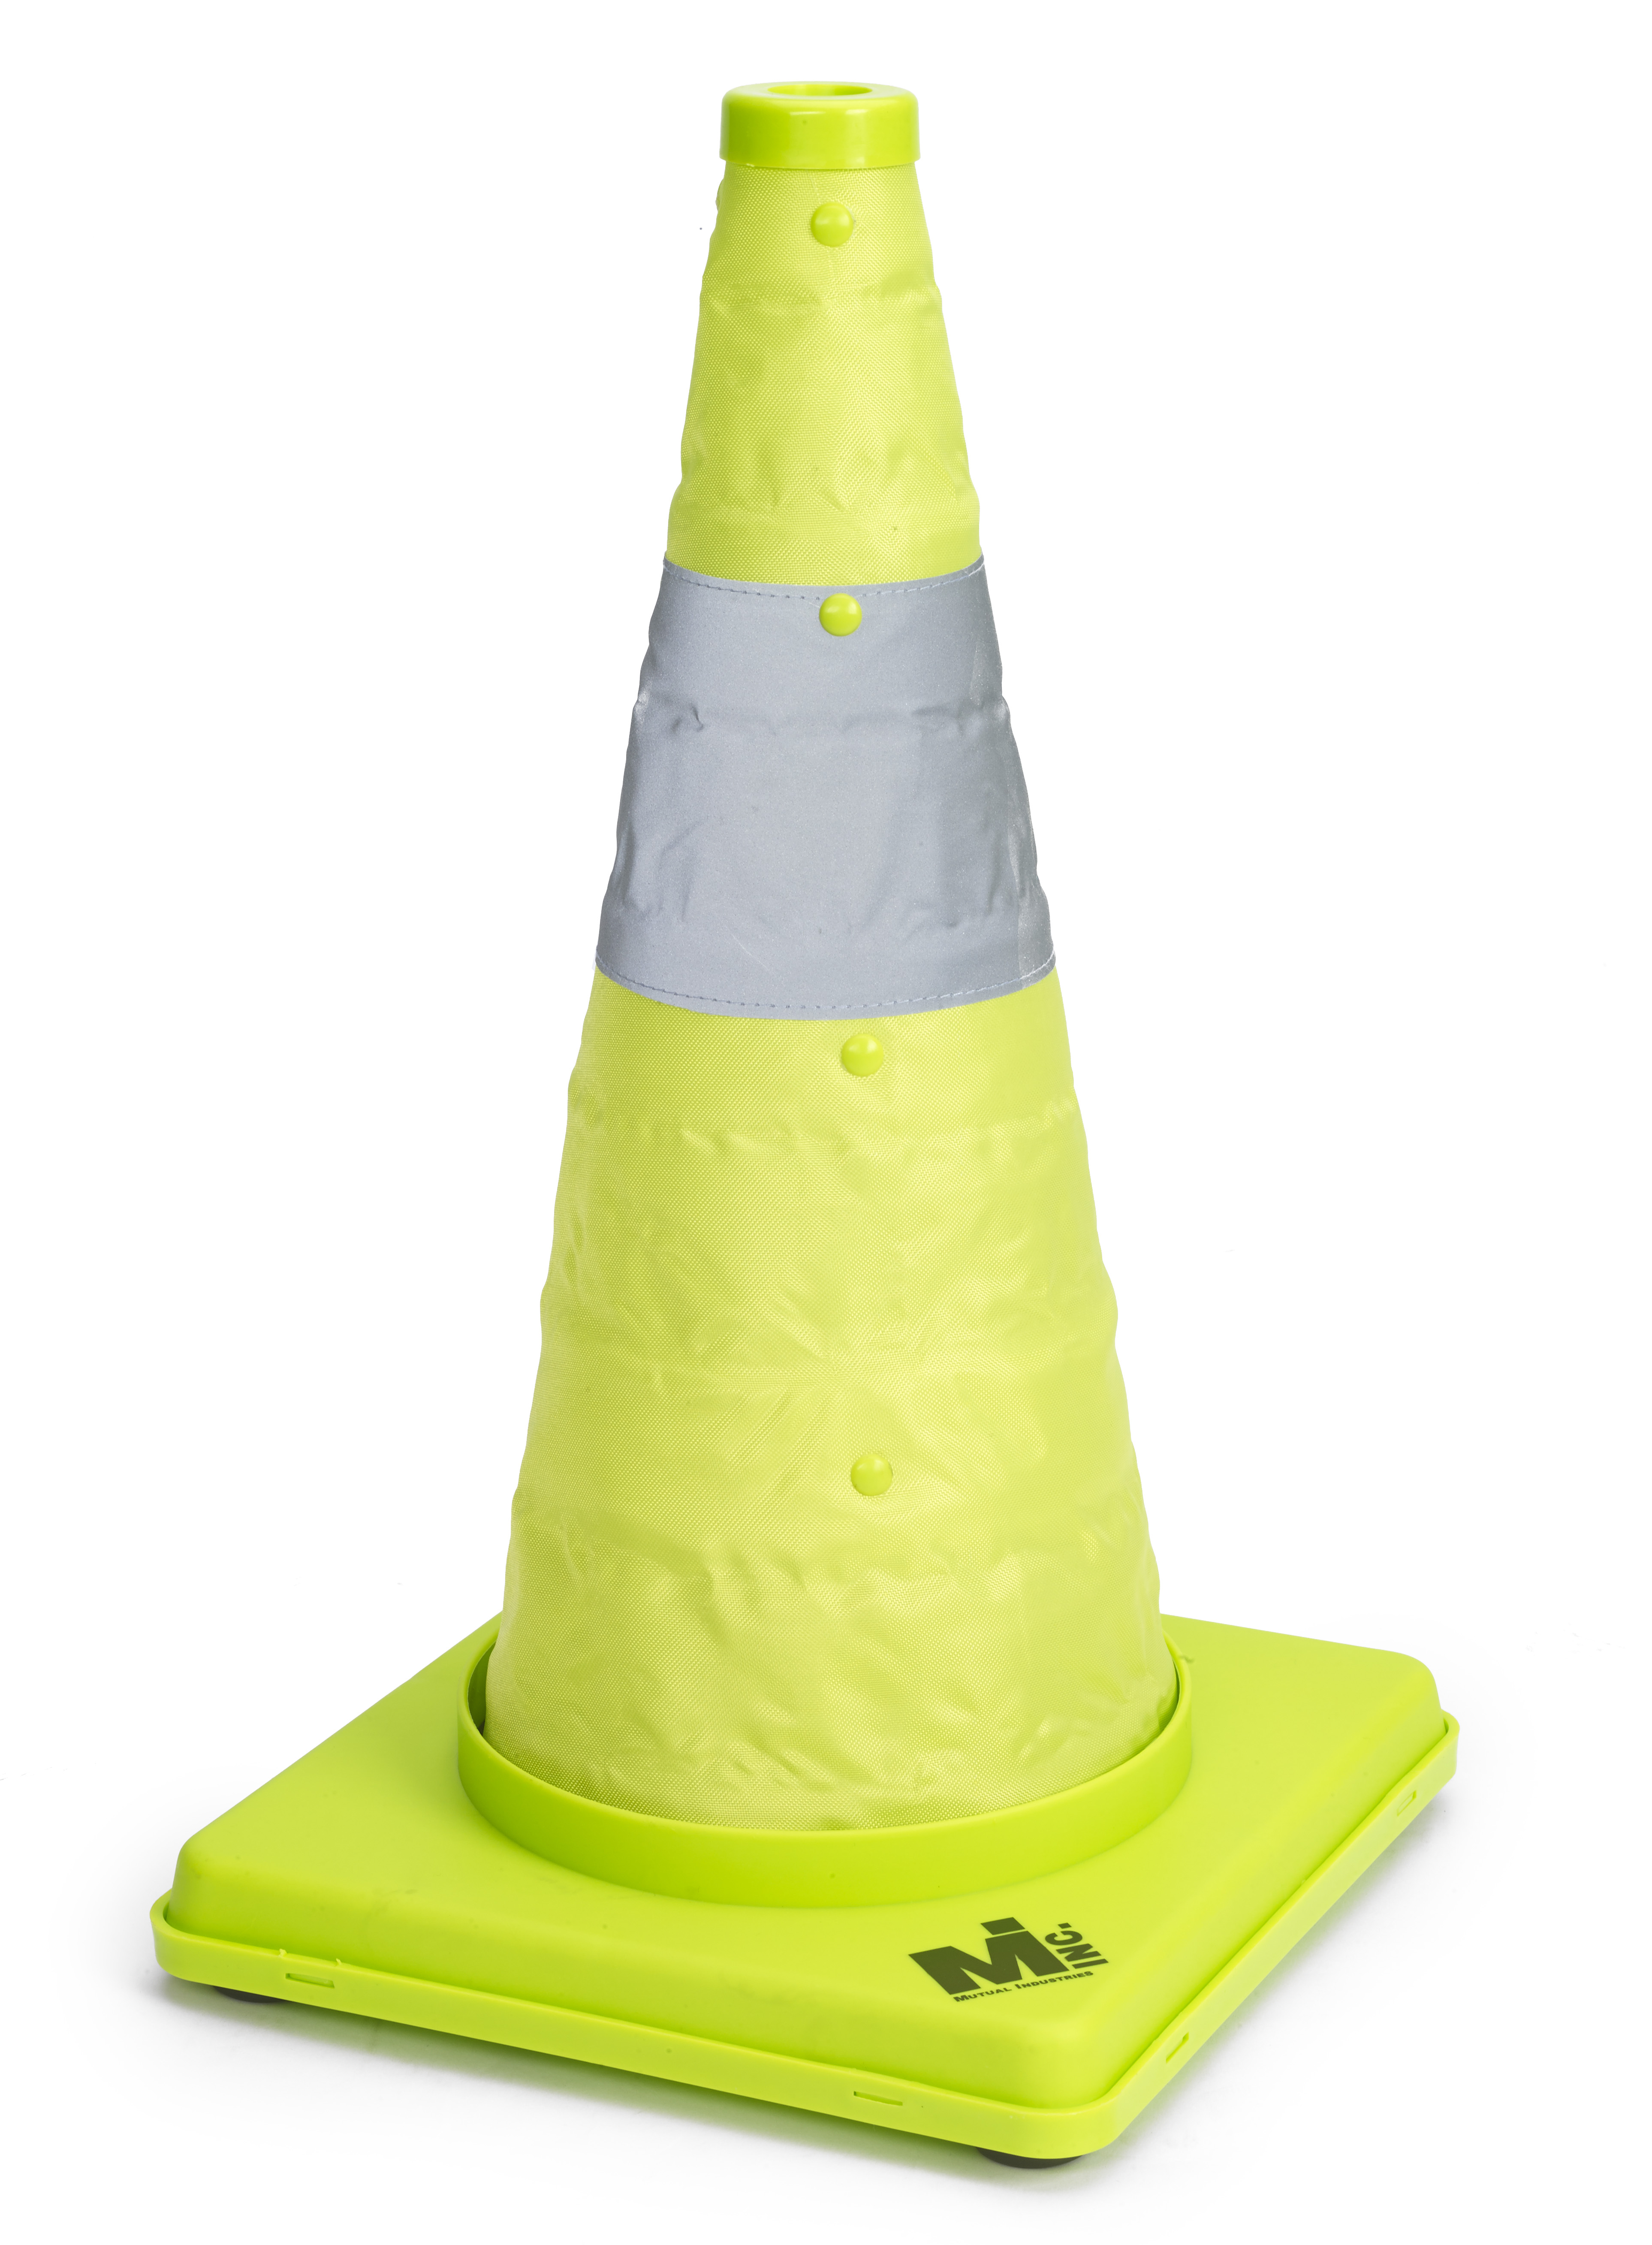cone: (152, 70, 1466, 2175)
